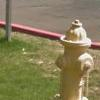Hydrant: (53, 13, 97, 100)
